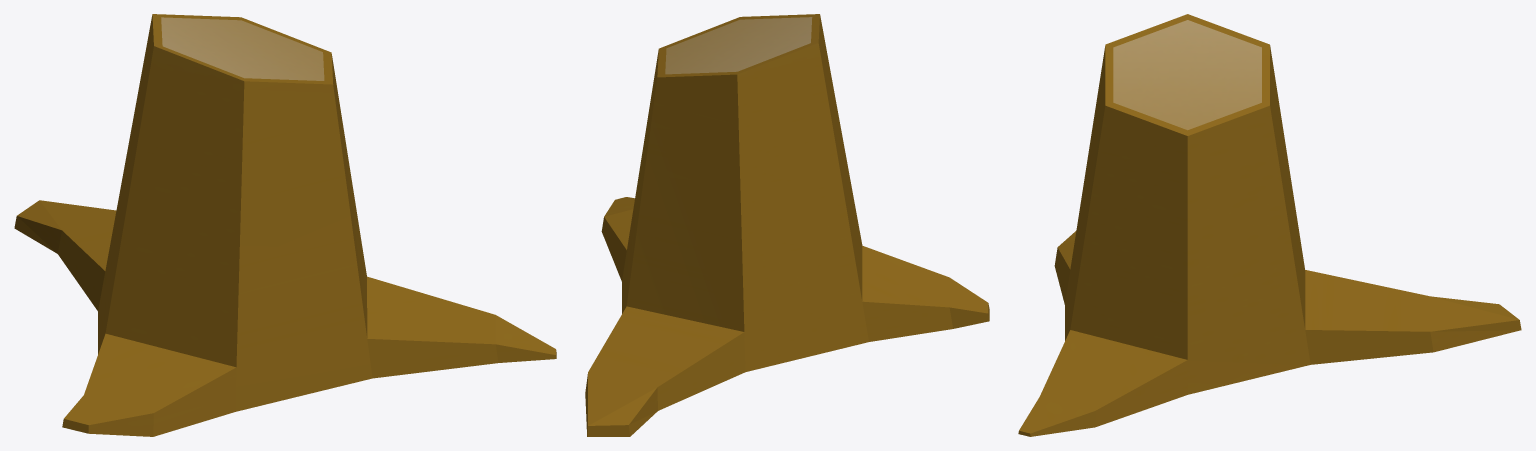
File: root_tree.fbx
The picture shows the model from 3 angles, left to right: view 1: azimuth 30°, elevation 25°; view 2: azimuth 150°, elevation 25°; view 3: azimuth 270°, elevation 25°; orthographic projection. The views are drawn at different scales.
Visible parts, largest first — view 1: trunk__1_; view 2: trunk__1_; view 3: trunk__1_.
Part boxes in pixels (x1,y1,x2,y2): trunk__1_: (14,14,556,436); trunk__1_: (585,14,989,436); trunk__1_: (1018,14,1521,436).
Size of the model in its own units: 2859 by 1913 by 3055.
